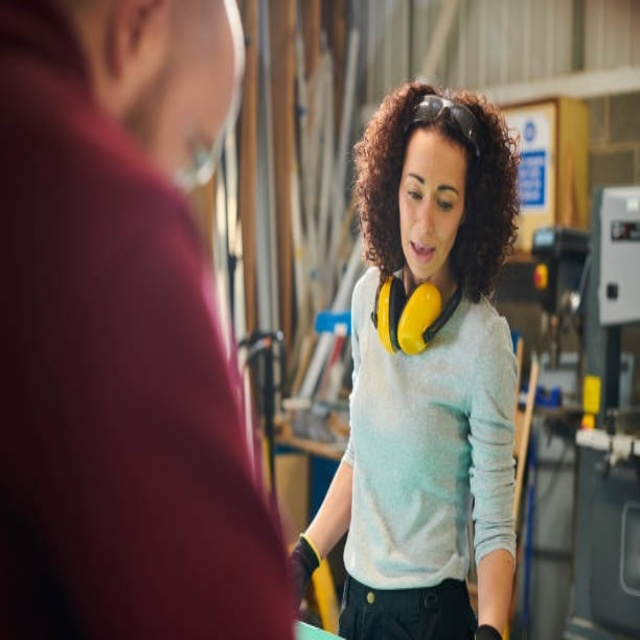Guantes: (288, 533, 322, 616)
Sin_gafas: (402, 165, 461, 223)
Sin_mascara: (403, 234, 440, 268)
